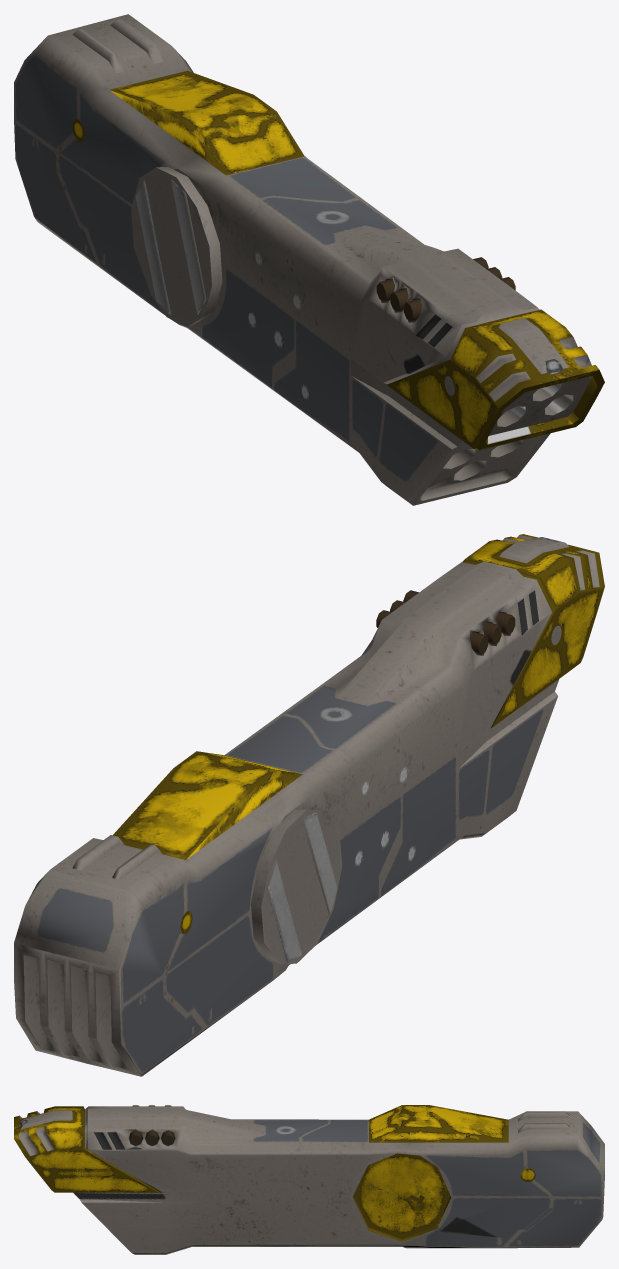
File: Rocket_Launcher_R_cannon.fbx
3 views of the same model, one above another, from view 1: azimuth 30°, elevation 25°; view 2: azimuth 150°, elevation 25°; view 3: azimuth 270°, elevation 25° (orthographic). The views are drawn at different scales.
Parts seen in each view (by area): view 1: Rocket_Launcher_R_cannon; view 2: Rocket_Launcher_R_cannon; view 3: Rocket_Launcher_R_cannon.
Boxes of the visible parts, box(x1,y1,x2,y2) form: Rocket_Launcher_R_cannon: box(14, 14, 604, 505); Rocket_Launcher_R_cannon: box(14, 534, 604, 1076); Rocket_Launcher_R_cannon: box(14, 1105, 604, 1254).
Bounding box in the file's own units: 86.63 × 144 × 608.
